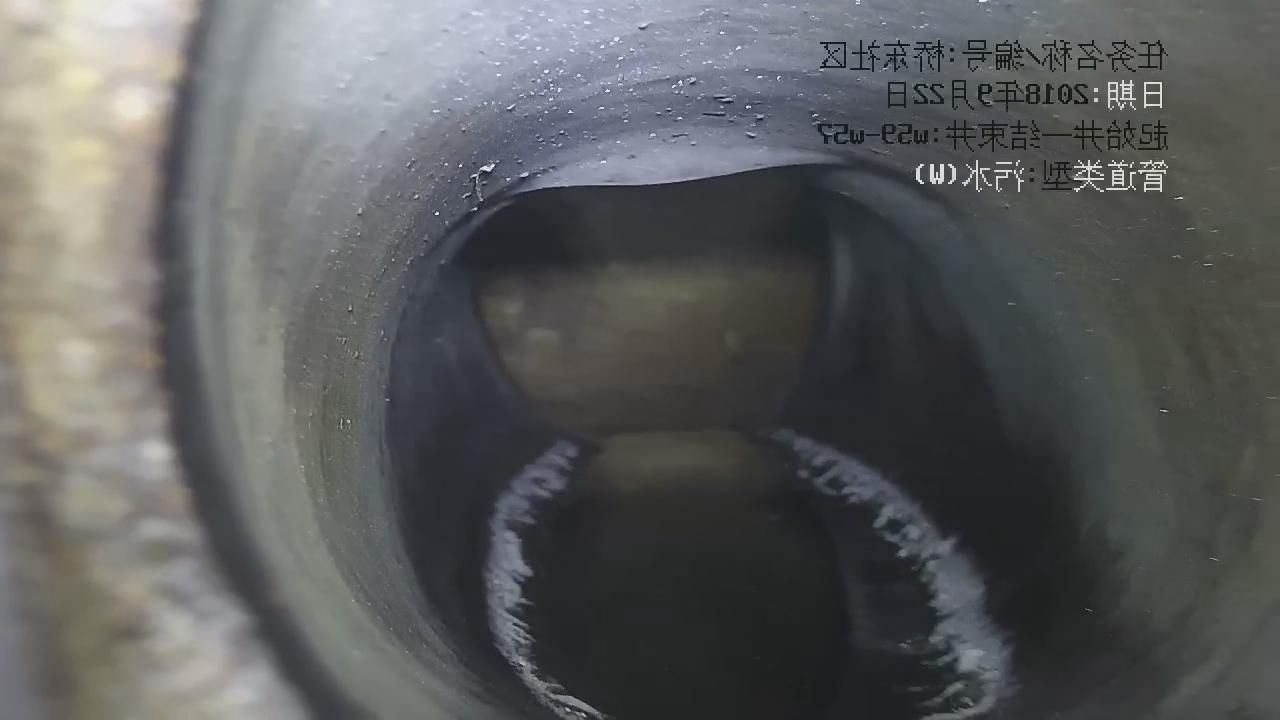BX: (436, 91, 896, 241)
